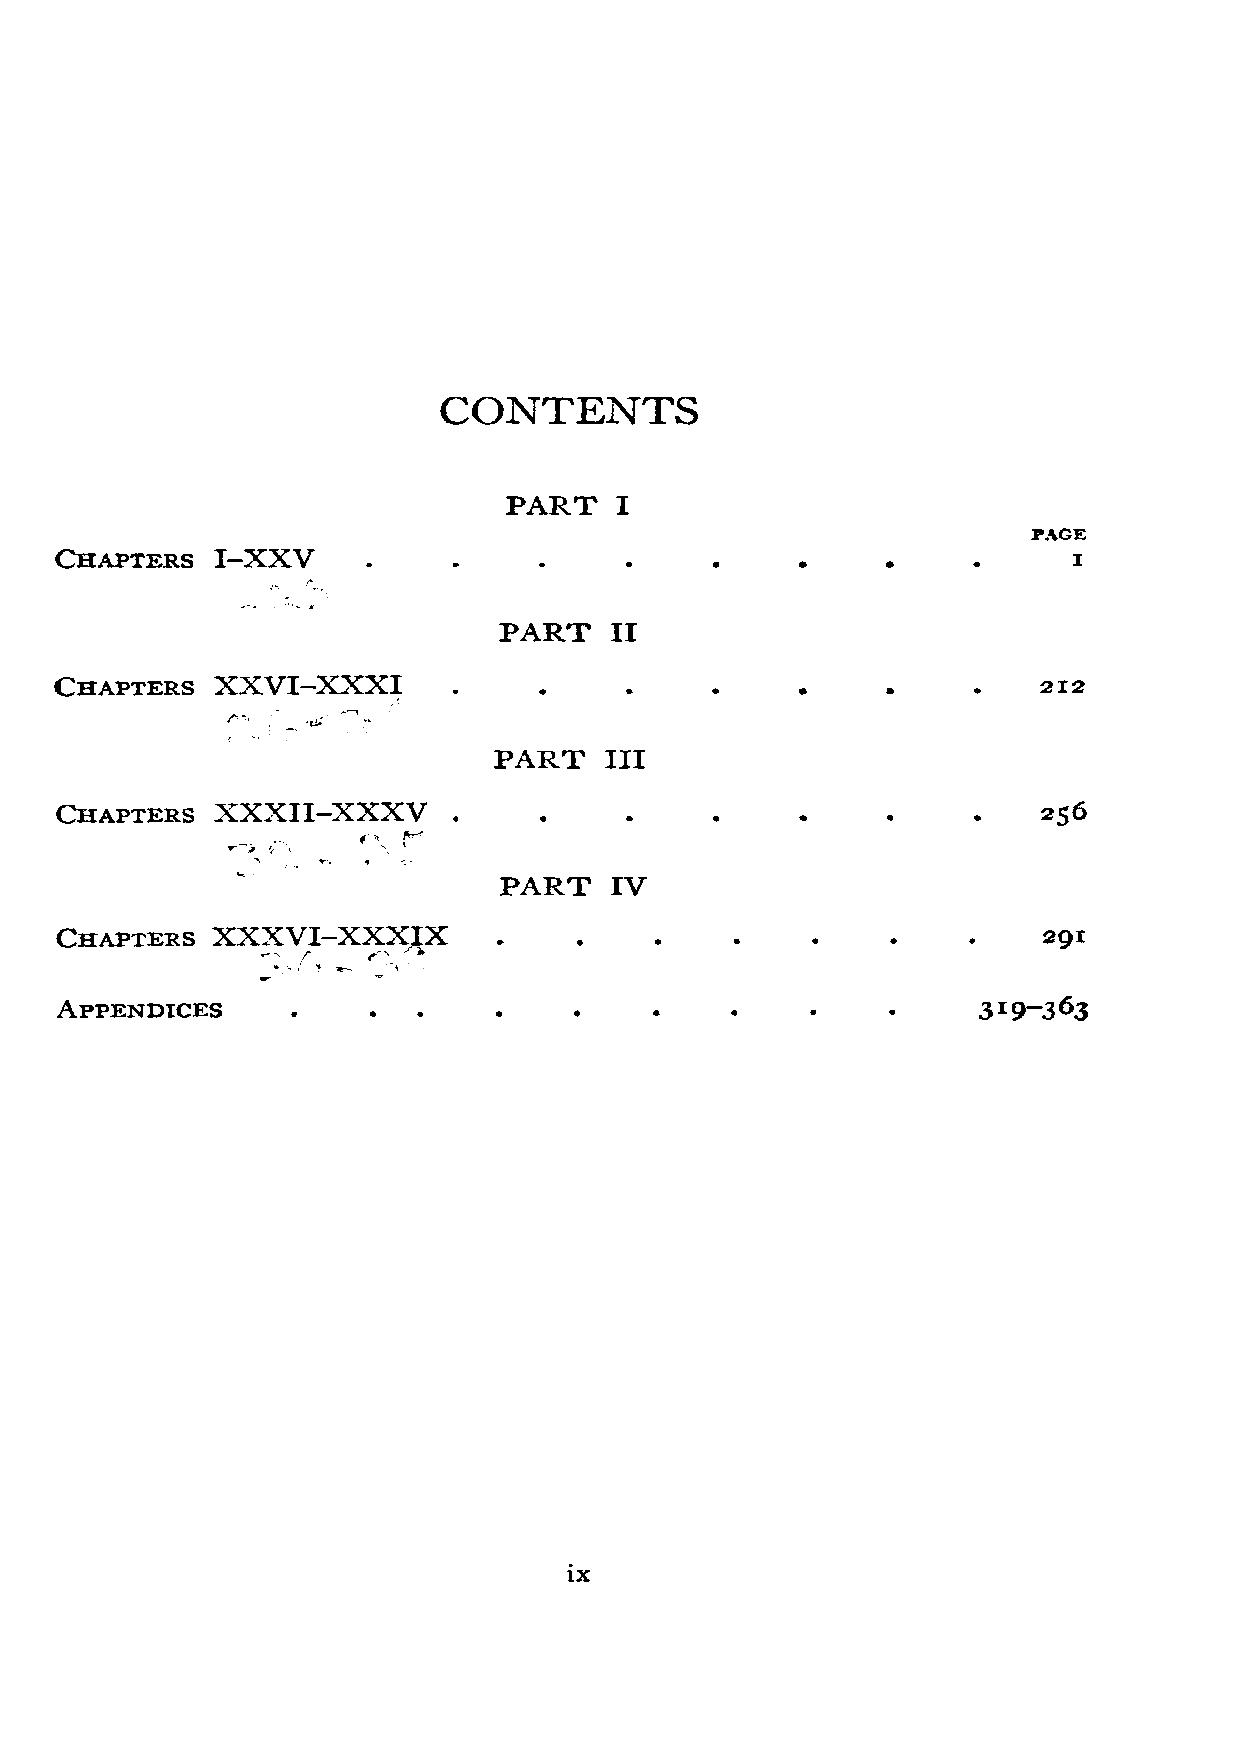TOC_chapter: (50, 797, 428, 828), (51, 670, 408, 701), (51, 925, 455, 951), (52, 539, 317, 574), (495, 739, 655, 777), (52, 994, 229, 1023), (498, 487, 647, 519), (495, 617, 645, 648), (490, 871, 647, 898)
TOC_pagenumber: (977, 994, 1090, 1031), (1041, 797, 1087, 829), (1033, 927, 1090, 951), (1033, 676, 1090, 694), (1064, 549, 1086, 570)
chapter: (436, 391, 707, 425)
